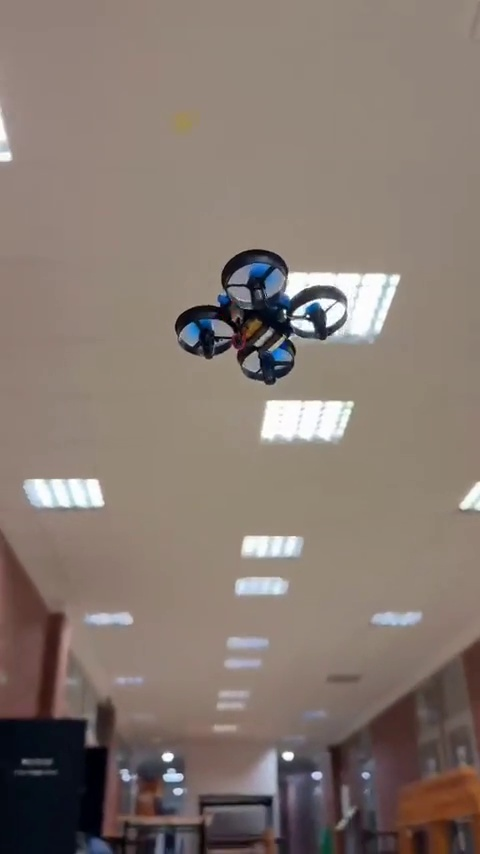drone: (171, 249, 343, 390)
